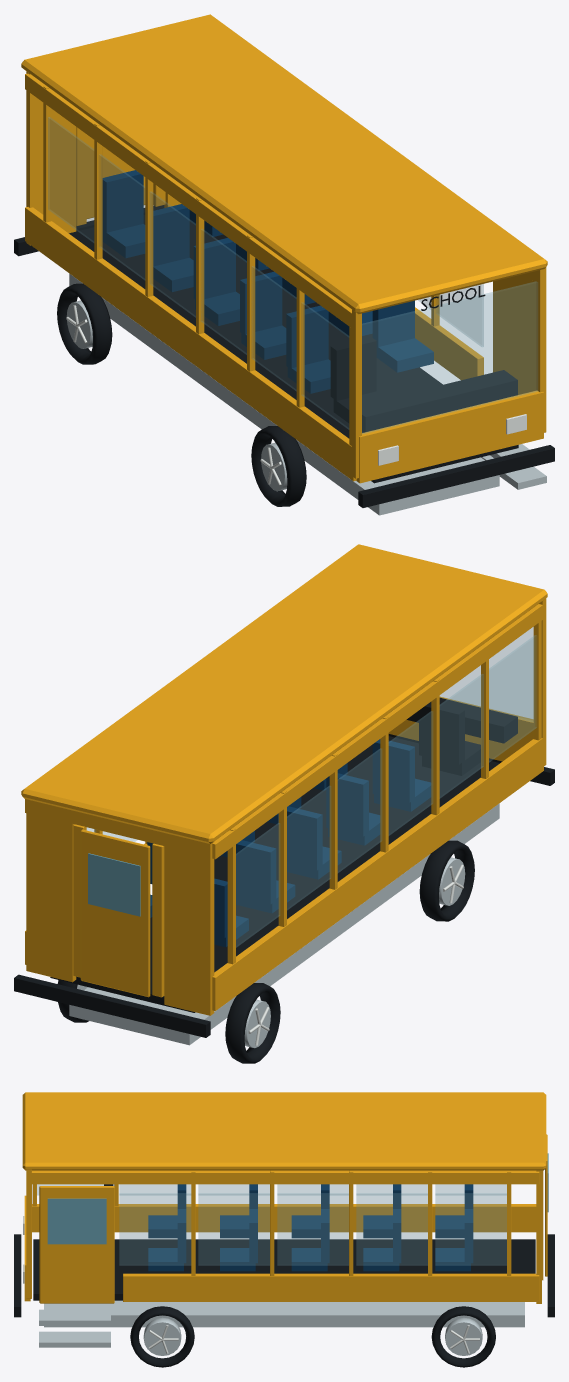
The model's file is sg-school-bus-hd.glb.
The picture shows the model from 3 angles, top to bottom: view 1: azimuth 30°, elevation 25°; view 2: azimuth 150°, elevation 25°; view 3: azimuth 270°, elevation 25°; orthographic projection. The views are drawn at different scales.
Visible parts, largest first — view 1: body, wheel_RL, wheel_FL; view 2: body, wheel_FL, wheel_RL; view 3: body, wheel_FR, wheel_RR.
Part boxes in pixels (<box>): body: <box>14,14,554,515</box>; wheel_RL: <box>57,283,112,364</box>; wheel_FL: <box>251,426,306,506</box>; body: <box>14,544,554,1045</box>; wheel_FL: <box>419,840,474,921</box>; wheel_RL: <box>225,983,280,1063</box>; body: <box>14,1092,554,1347</box>; wheel_FR: <box>130,1306,194,1367</box>; wheel_RR: <box>431,1306,495,1367</box>.
Bounding box in the file's own units: 2.5 × 3.18 × 7.54.
